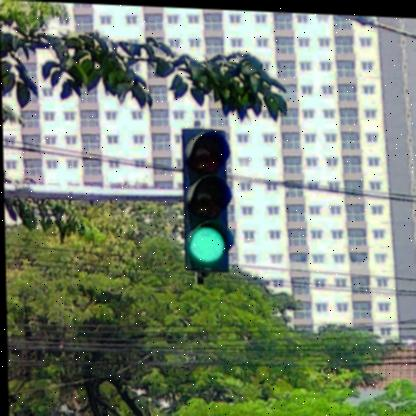Traffic Light -Green-: (178, 125, 234, 273)
